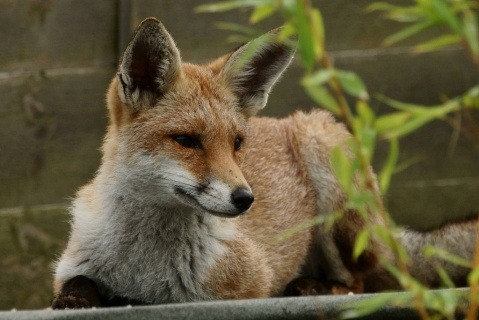Fox: (44, 14, 479, 308)
